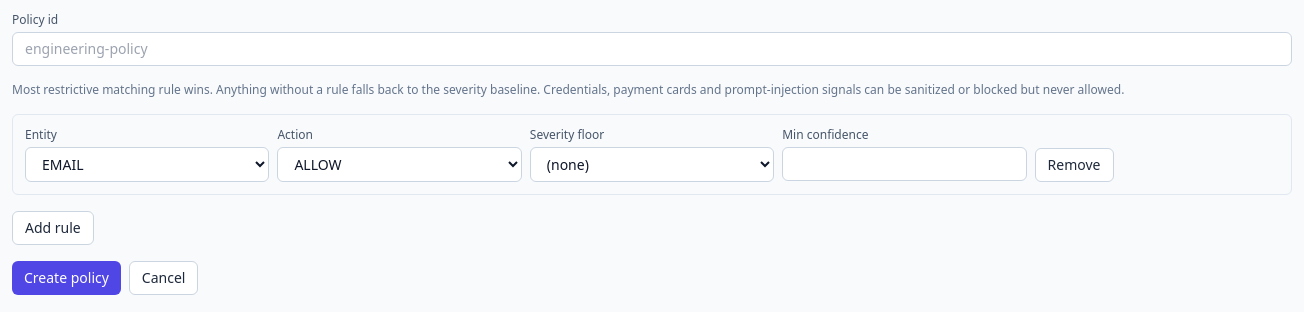
Test: PolicyEditor › raising the severity floor to CRITICAL also forbids ALLOW
Select "CRITICAL" in the dropdown labelled "Severity floor" at (652, 164), box [530,147,774,182]
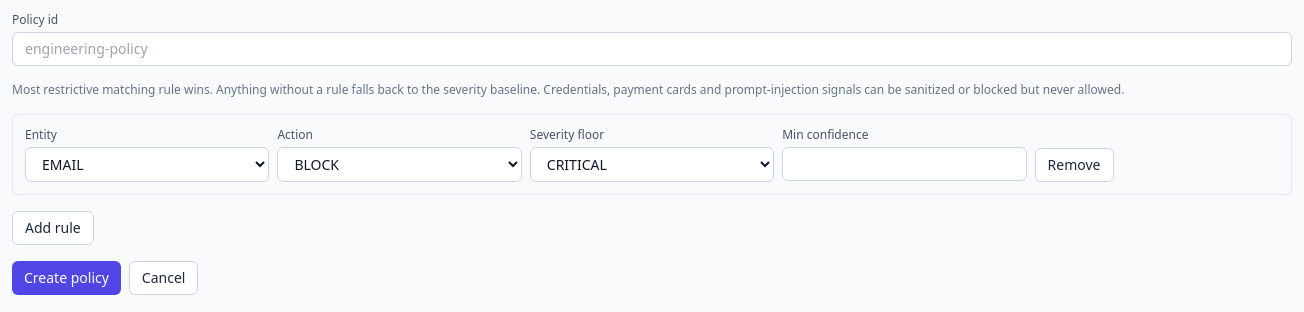
Now the dropdown labelled "Action" shows "BLOCK", box [277,147,522,182]
